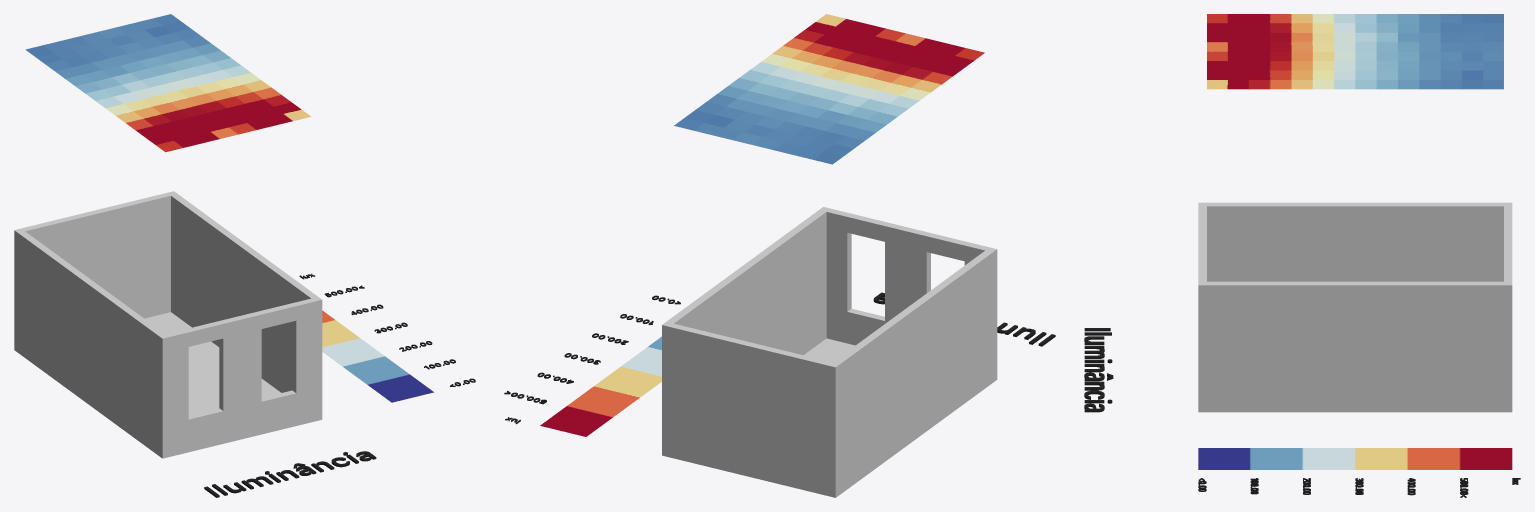
Rendered from Prototipo2.dae.
3 views of the same model, side by side, from view 1: azimuth 30°, elevation 25°; view 2: azimuth 150°, elevation 25°; view 3: azimuth 270°, elevation 25° (orthographic). The views are drawn at different scales.
Visible parts, largest first — view 1: group_0 (×4), group_2, group_1; view 2: group_0 (×2), group_2, group_1; view 3: group_0 (×2), group_2, group_1.
Boxes of the visible parts, x1,y1,x2,y2 form: group_0 (×4): (14, 191, 322, 458); group_2: (25, 14, 310, 152); group_1: (322, 310, 433, 402); group_0 (×2): (662, 207, 997, 497); group_2: (674, 14, 984, 164); group_1: (540, 336, 661, 436); group_0 (×2): (1198, 202, 1512, 412); group_2: (1207, 14, 1503, 89); group_1: (1198, 448, 1512, 469).
Size of the model in its own units: 111 by 121 by 98.03.
Materials: 4 (2 with a texture image).
